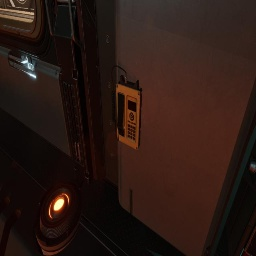EmergencyPhone ,: (111, 65, 142, 150)
